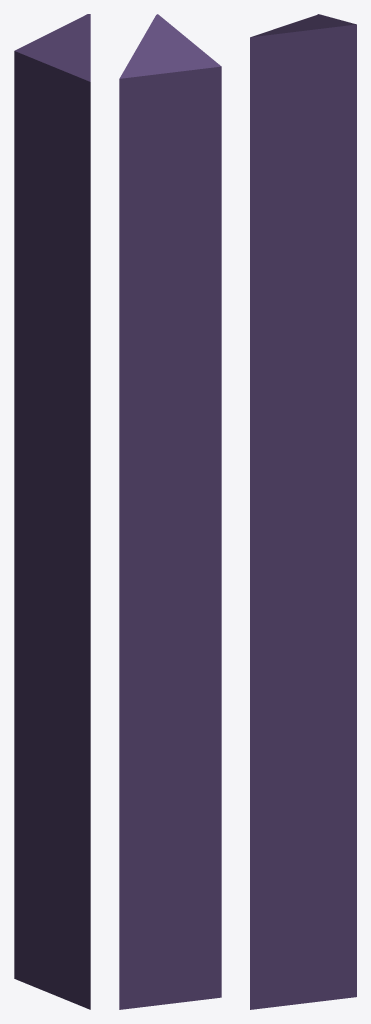
File: wall croner piece FLR2.fbx
The picture shows the model from 3 angles, left to right: view 1: azimuth 90°, elevation 25°; view 2: azimuth 150°, elevation 25°; view 3: azimuth 330°, elevation 25°; orthographic projection. The views are drawn at different scales.
Visible parts, largest first — view 1: wall_Corner_Piece_2; view 2: wall_Corner_Piece_2; view 3: wall_Corner_Piece_2.
Part boxes in pixels (bbox=[...]): wall_Corner_Piece_2: bbox=[14, 14, 90, 1009]; wall_Corner_Piece_2: bbox=[119, 14, 221, 1009]; wall_Corner_Piece_2: bbox=[250, 14, 356, 1009].
Size of the model in its own units: 0.3271 by 4.72 by 0.338.
